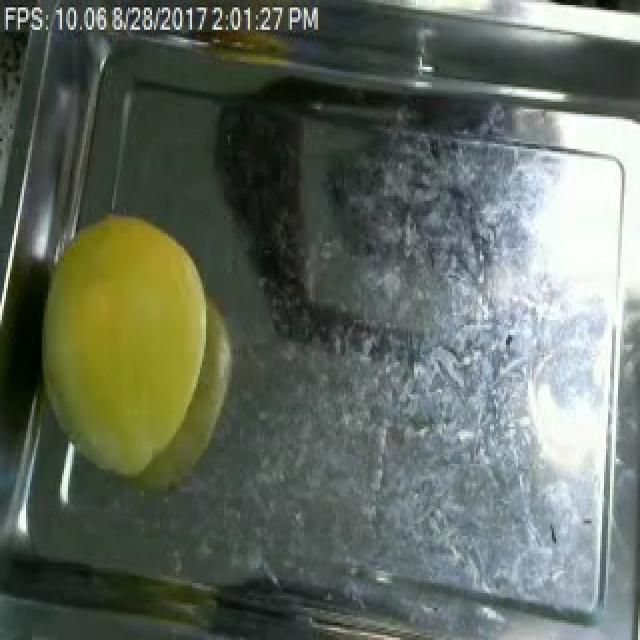fruit: (18, 196, 258, 506)
